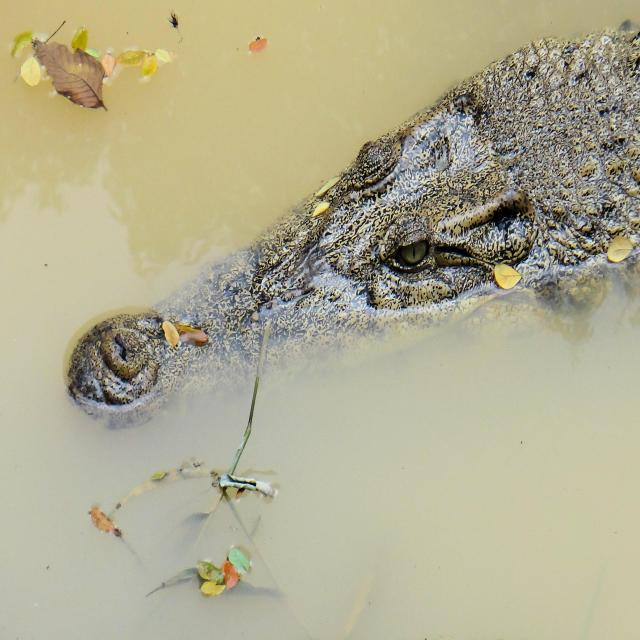crocodile: (57, 0, 640, 457)
